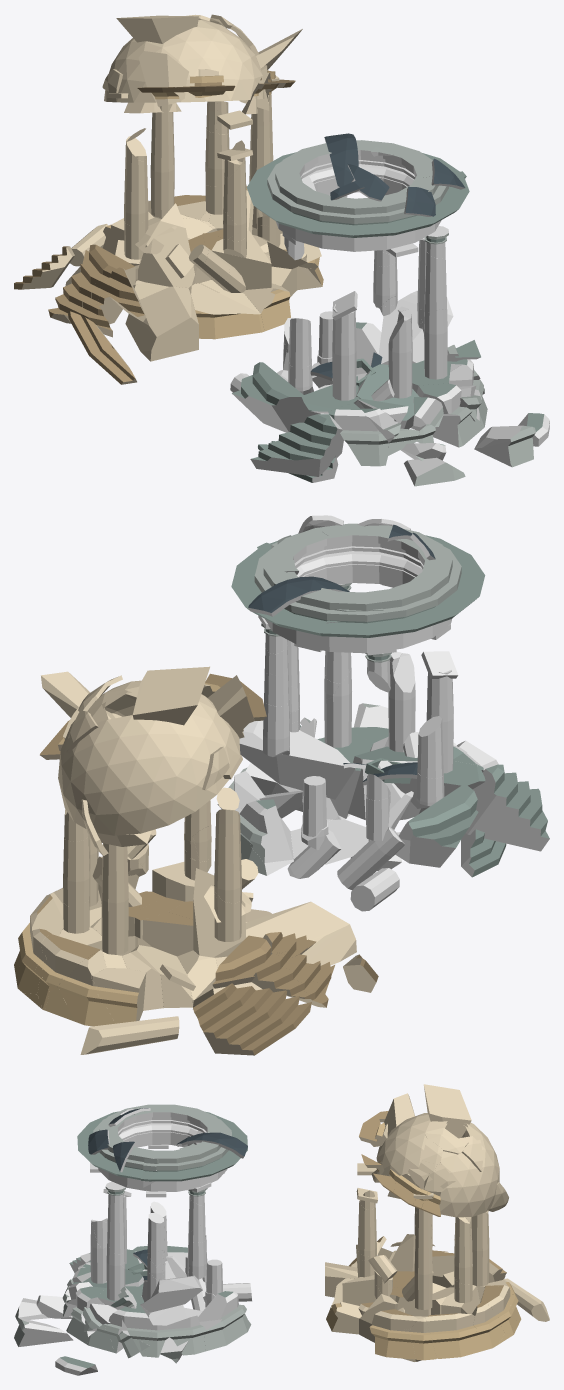
The model's file is dest.arqui2.fbx.
3 views of the same model, one above another, from view 1: azimuth 30°, elevation 25°; view 2: azimuth 150°, elevation 25°; view 3: azimuth 270°, elevation 25° (orthographic). The views are drawn at different scales.
Parts seen in each view (by area): view 1: Cylinder.004_cell.092; view 2: Cylinder.004_cell.092; view 3: Cylinder.004_cell.092.
Boxes of the visible parts, left/top/right/bottom form: Cylinder.004_cell.092: left=14, top=14, right=549, bottom=486; Cylinder.004_cell.092: left=14, top=515, right=549, bottom=1055; Cylinder.004_cell.092: left=14, top=1084, right=549, bottom=1375.
Bounding box in the file's own units: 1172 × 1196 × 2444.
